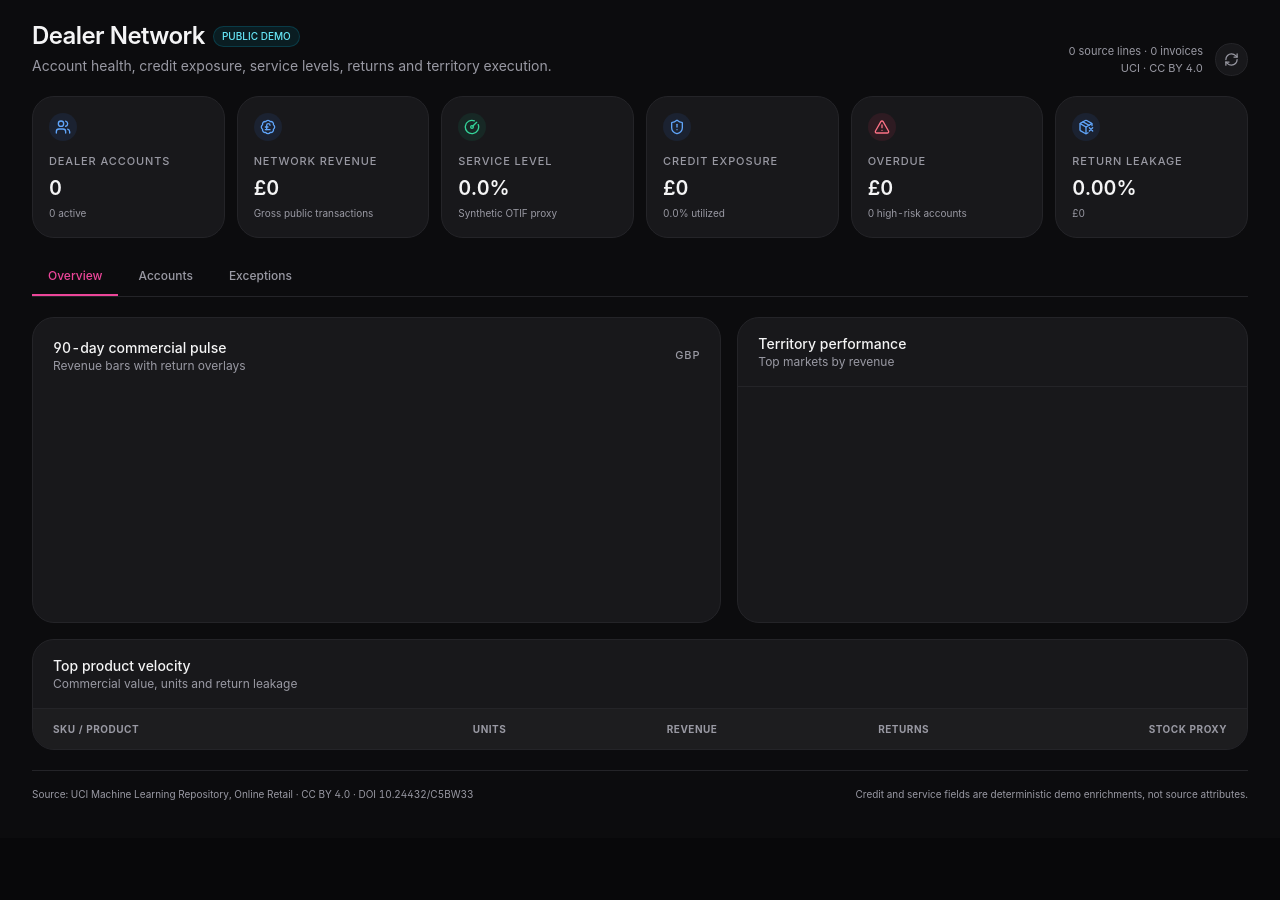
dealer failure shows retry instead of a false empty result
Click the button "accounts".
click(166, 276)  # box [122, 258, 209, 296]
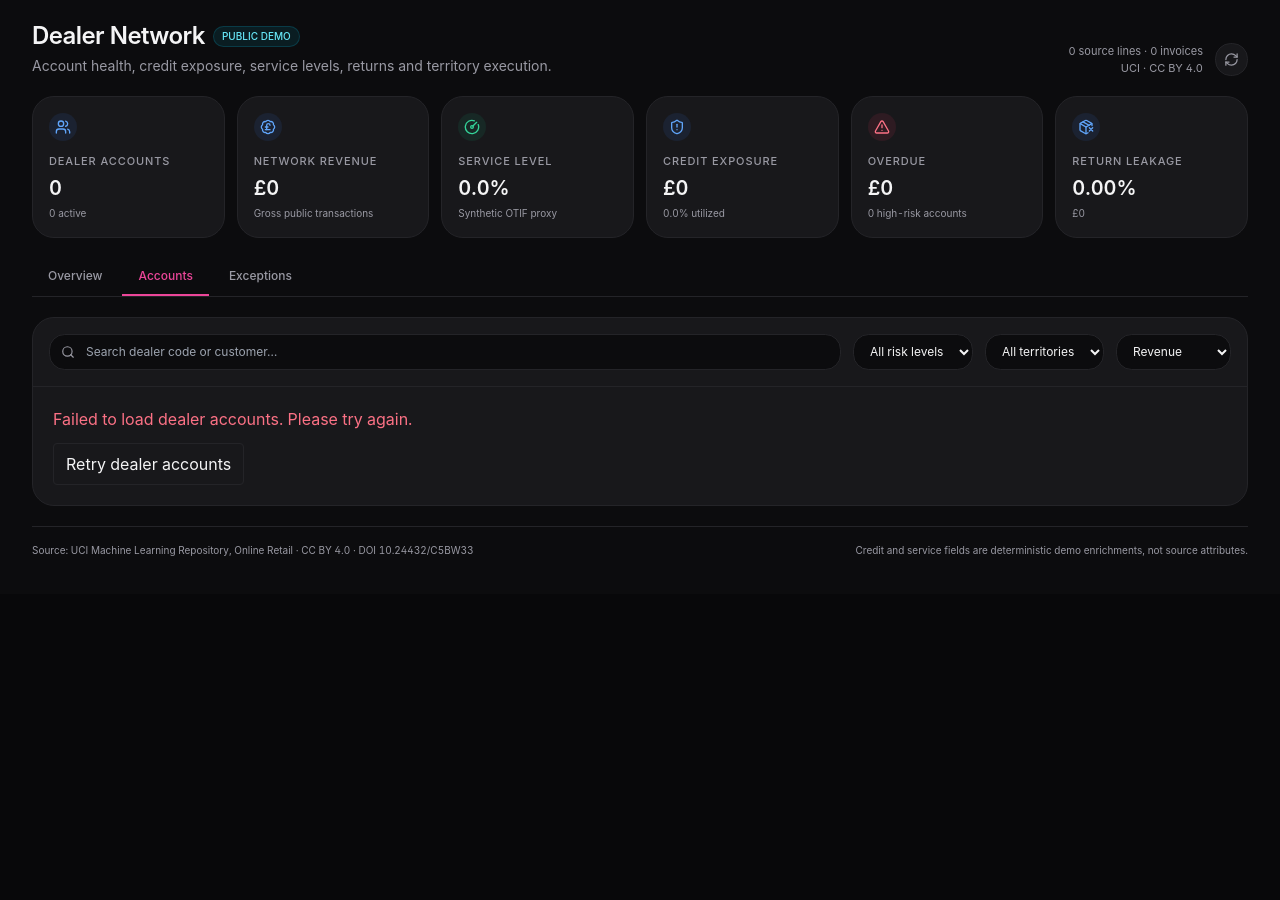
Check: the text "No dealer accounts match these filters." is not shown
Check: the message shows "Failed to load dealer accounts", box [53, 408, 412, 428]
Click the button "Retry dealer accounts".
click(149, 464)  # box [53, 442, 244, 484]
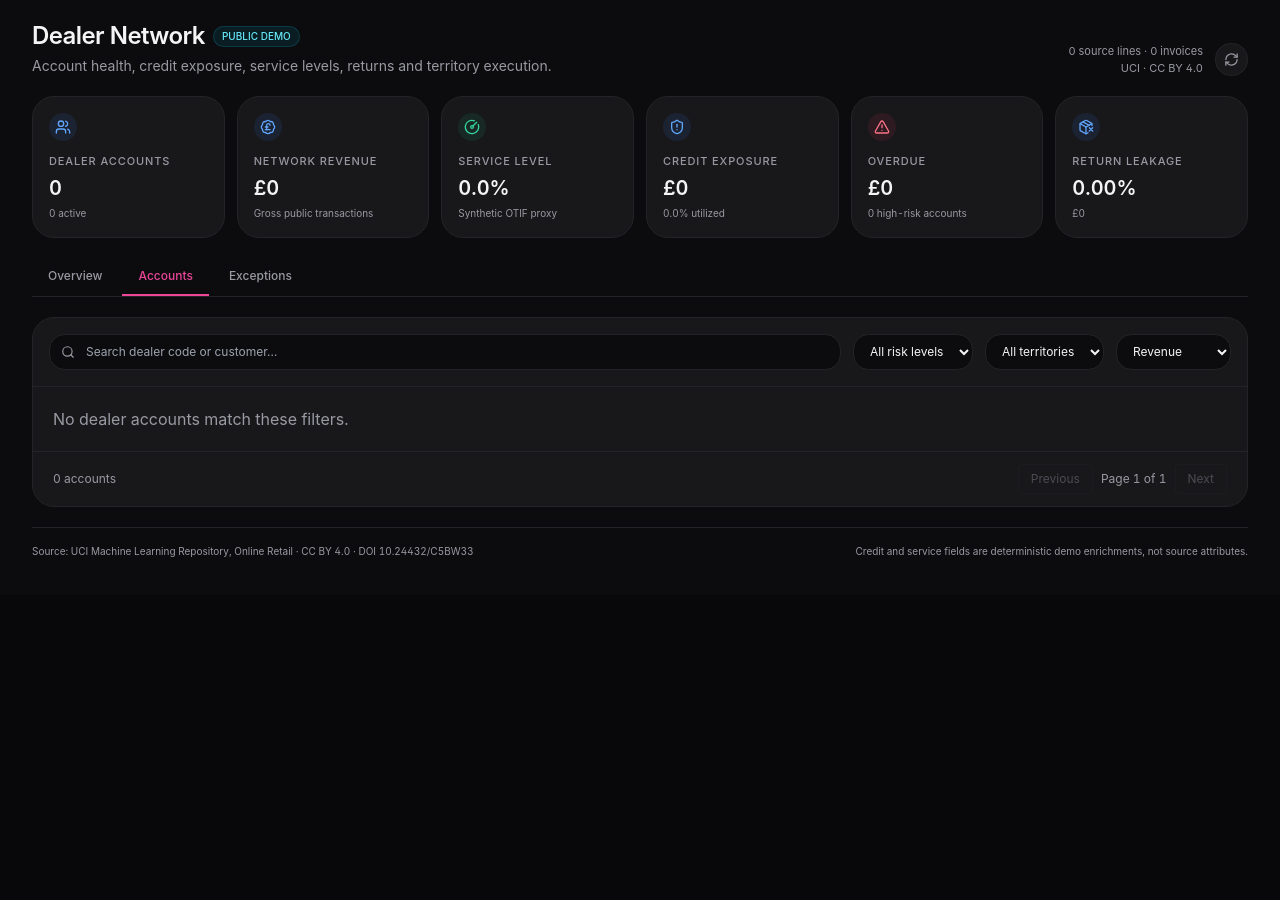
Check: the text "No dealer accounts match these filters." is shown, box [53, 408, 348, 428]
